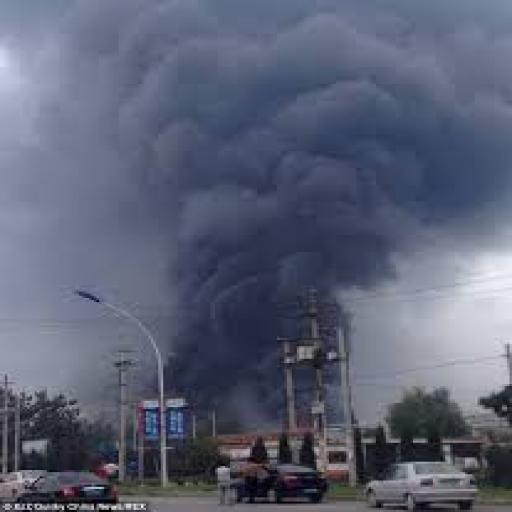smoke: (109, 2, 467, 365)
